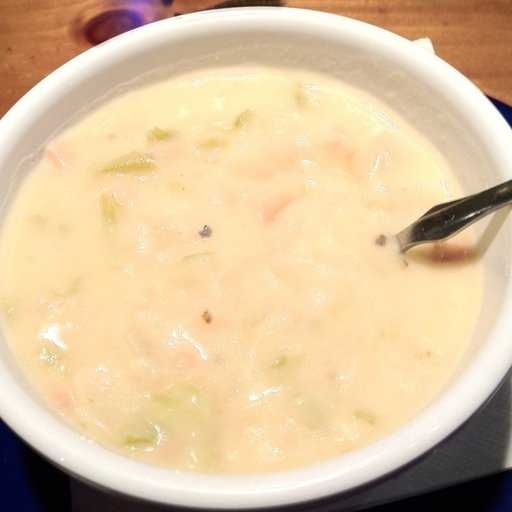soup: (1, 59, 474, 478)
